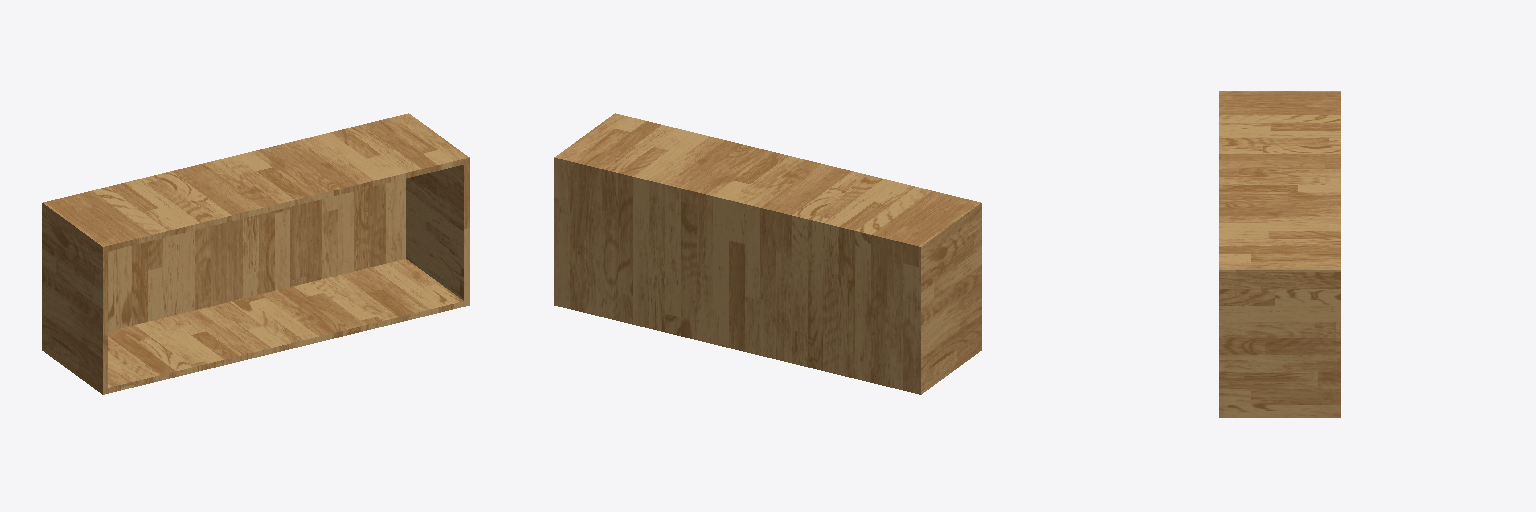
The picture shows the model from 3 angles: view 1: azimuth 30°, elevation 25°; view 2: azimuth 150°, elevation 25°; view 3: azimuth 270°, elevation 25°; orthographic projection.
Parts seen in each view (by area): view 1: MeshSideTableDrawer_216_1_2_1_GeomSubset_0; view 2: MeshSideTableDrawer_216_1_2_1_GeomSubset_0; view 3: MeshSideTableDrawer_216_1_2_1_GeomSubset_0.
Part boxes in pixels (left/top/right/bottom): MeshSideTableDrawer_216_1_2_1_GeomSubset_0: left=42, top=113, right=469, bottom=394; MeshSideTableDrawer_216_1_2_1_GeomSubset_0: left=554, top=113, right=981, bottom=394; MeshSideTableDrawer_216_1_2_1_GeomSubset_0: left=1219, top=91, right=1340, bottom=417.
Size of the model in its own units: 0.8097 by 0.3204 by 0.2315.
1 materials, 1 textured.